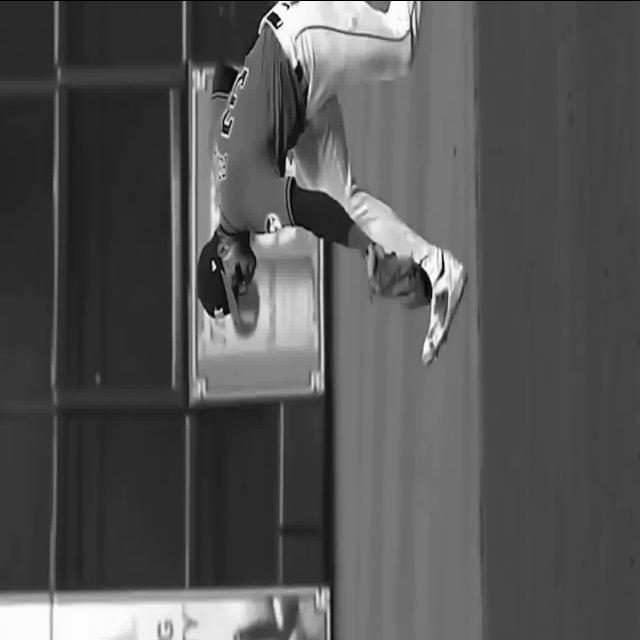baseball_glove: (364, 241, 432, 311)
shoe: (421, 248, 467, 366), (408, 2, 422, 68)
